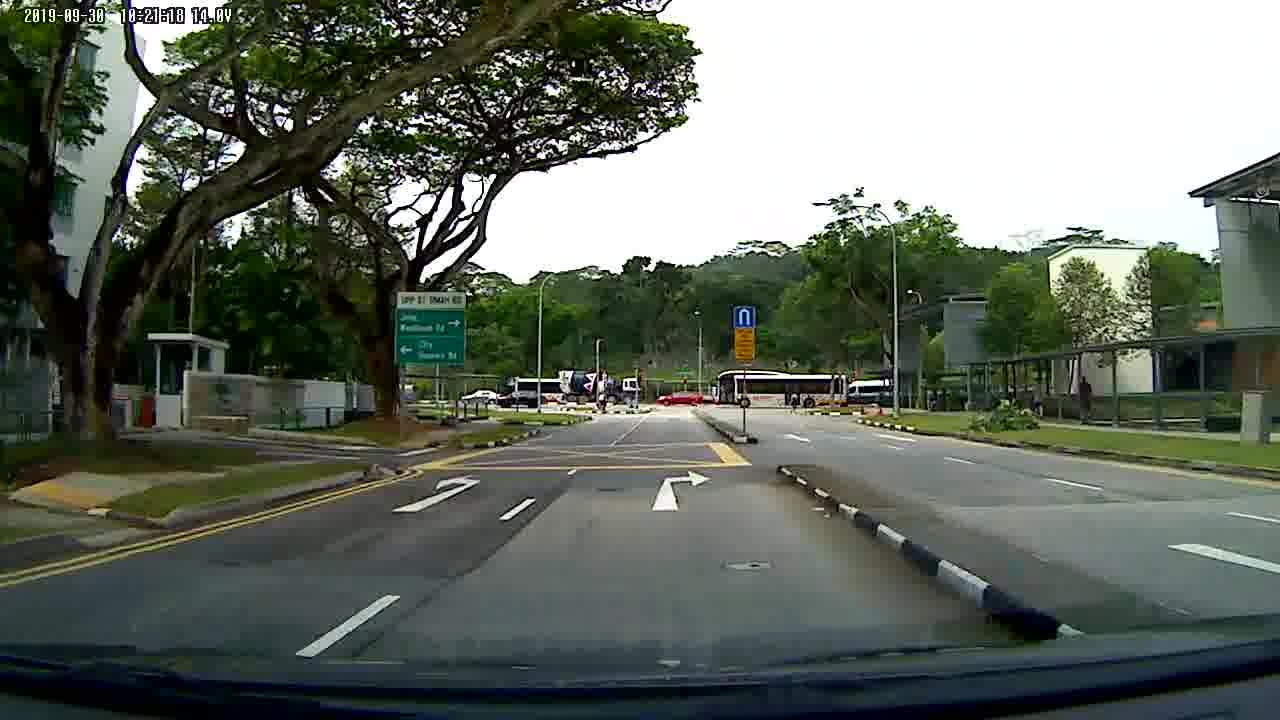bus: (713, 370, 850, 409)
car: (657, 390, 705, 407)
